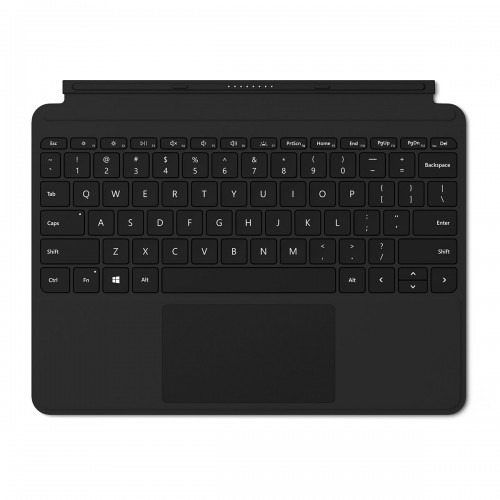keyboard: (30, 119, 468, 300)
